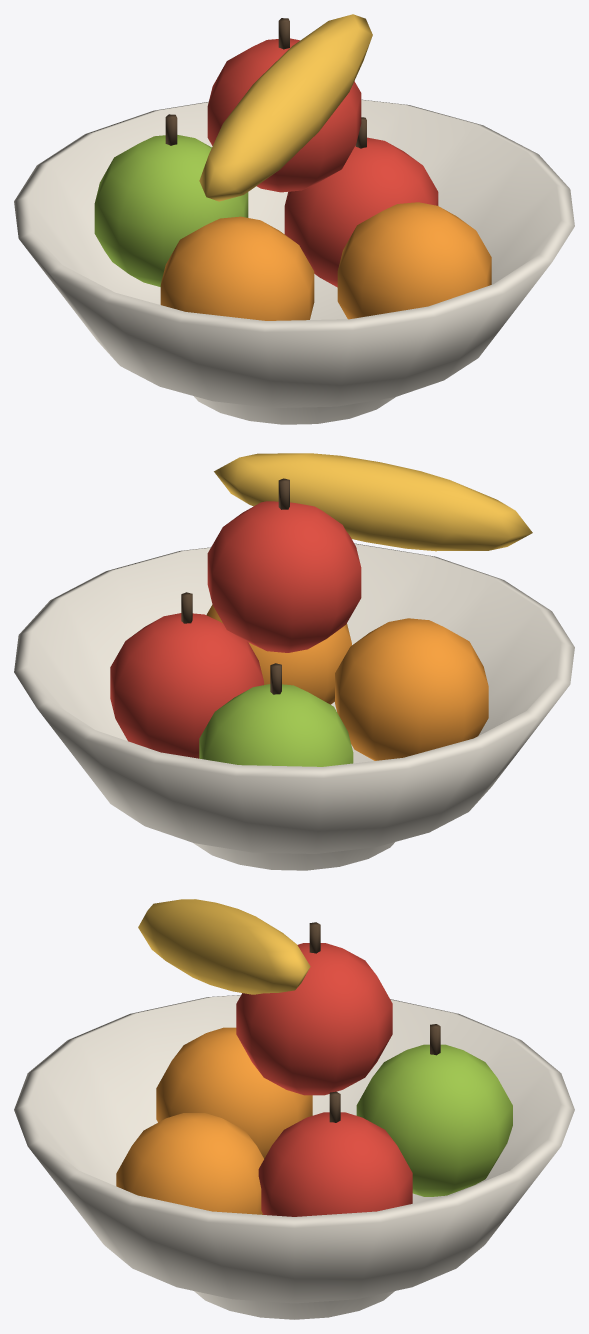
The model's file is fruitBowl.glb.
3 views of the same model, one above another, from view 1: azimuth 30°, elevation 25°; view 2: azimuth 150°, elevation 25°; view 3: azimuth 270°, elevation 25° (orthographic).
Parts seen in each view (by area): view 1: fruitBowl; view 2: fruitBowl; view 3: fruitBowl.
Part boxes in pixels (x1,y1,x2,y2): fruitBowl: (14,14,574,424); fruitBowl: (14,453,574,870); fruitBowl: (14,899,574,1319).
Size of the model in its own units: 0.28 by 0.1936 by 0.28.
